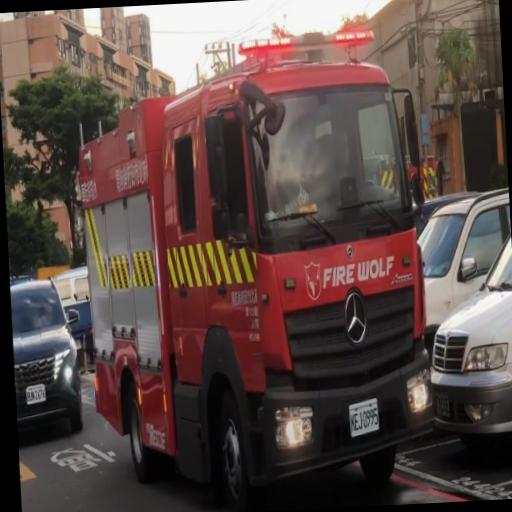fire truck: (66, 24, 441, 510)
